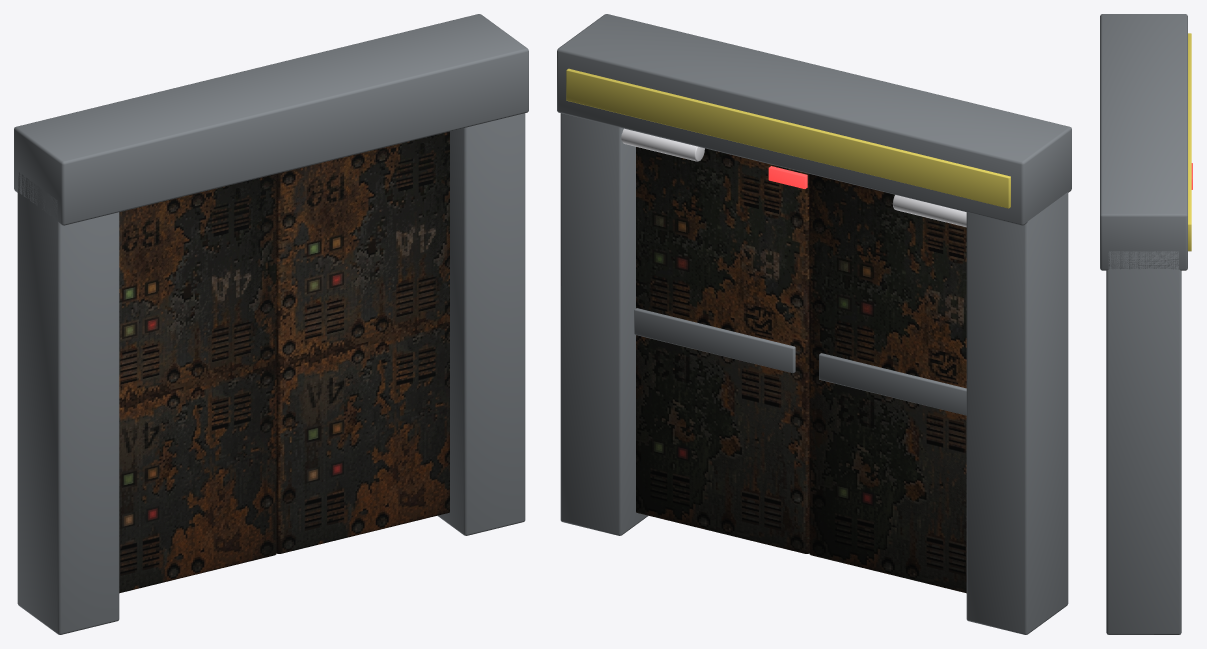
The model's file is blast_door.glb.
3 renders of one model, left to right at view 1: azimuth 30°, elevation 25°; view 2: azimuth 150°, elevation 25°; view 3: azimuth 270°, elevation 25°, orthographic. The views are drawn at different scales.
Parts seen in each view (by area): view 1: DoorFrame, DoorLeaf_R, DoorLeaf_L; view 2: DoorFrame, DoorLeaf_R, DoorLeaf_L; view 3: DoorFrame.
Boxes of the visible parts, x1=… form: DoorFrame: x1=14, y1=14, x2=528, y2=634; DoorLeaf_R: x1=276, y1=131, x2=449, y2=553; DoorLeaf_L: x1=119, y1=174, x2=276, y2=593; DoorFrame: x1=557, y1=14, x2=1071, y2=634; DoorLeaf_R: x1=634, y1=147, x2=809, y2=553; DoorLeaf_L: x1=809, y1=174, x2=966, y2=593; DoorFrame: x1=1100, y1=14, x2=1192, y2=634.
Bounding box in the file's own units: 3.8 × 3.7 × 0.74.
5 materials, 1 textured.
